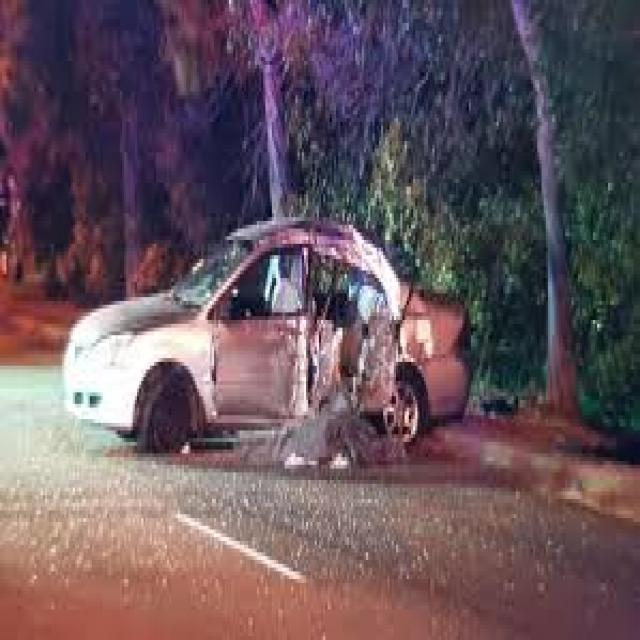accident: (62, 166, 482, 489)
